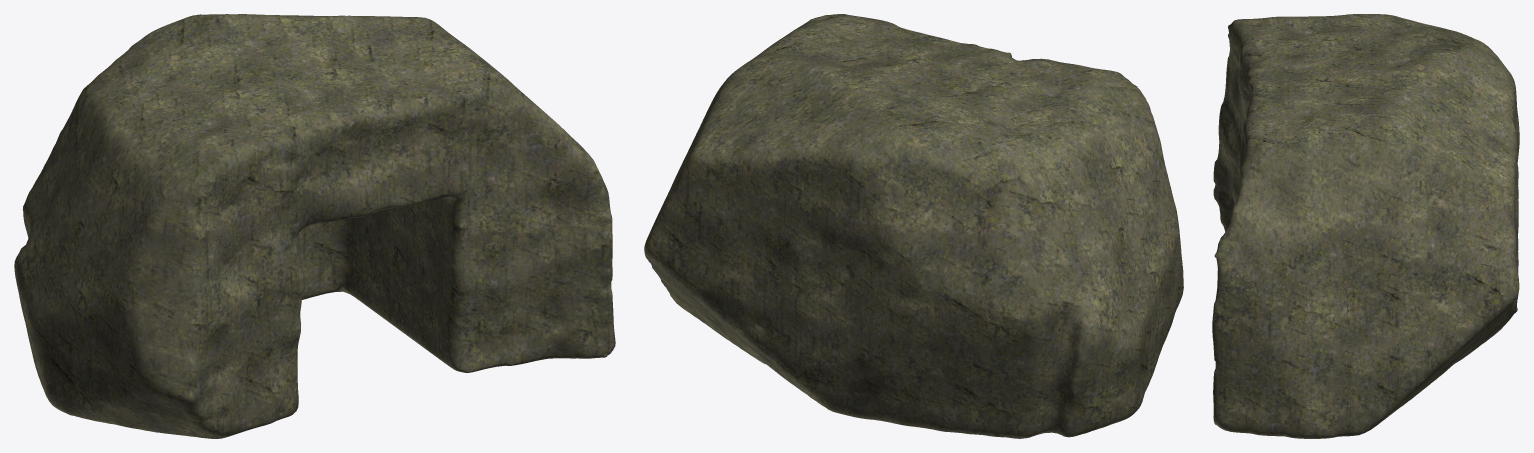
The model's file is tunnelrock.glb.
The picture shows the model from 3 angles, left to right: view 1: azimuth 30°, elevation 25°; view 2: azimuth 150°, elevation 25°; view 3: azimuth 270°, elevation 25°; orthographic projection. The views are drawn at different scales.
Visible parts, largest first — view 1: tunnelrock; view 2: tunnelrock; view 3: tunnelrock.
Boxes of the visible parts, <box> form: tunnelrock: <box>14,14,615,438</box>; tunnelrock: <box>644,14,1183,438</box>; tunnelrock: <box>1212,14,1519,438</box>.
Bounding box in the file's own units: 22.73 × 13.29 × 13.62.
1 material, 1 textured.
